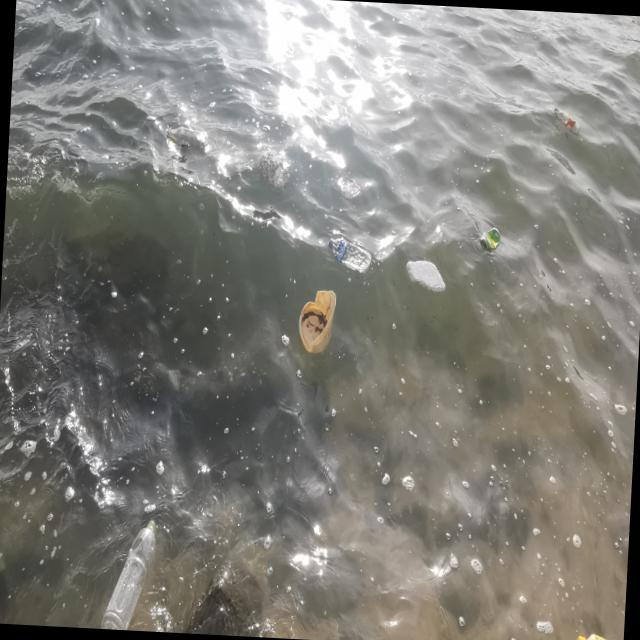can: (480, 227, 503, 256)
plastic bottle: (106, 514, 159, 625), (327, 237, 375, 276), (406, 261, 450, 297), (554, 108, 583, 135), (577, 633, 625, 640)
